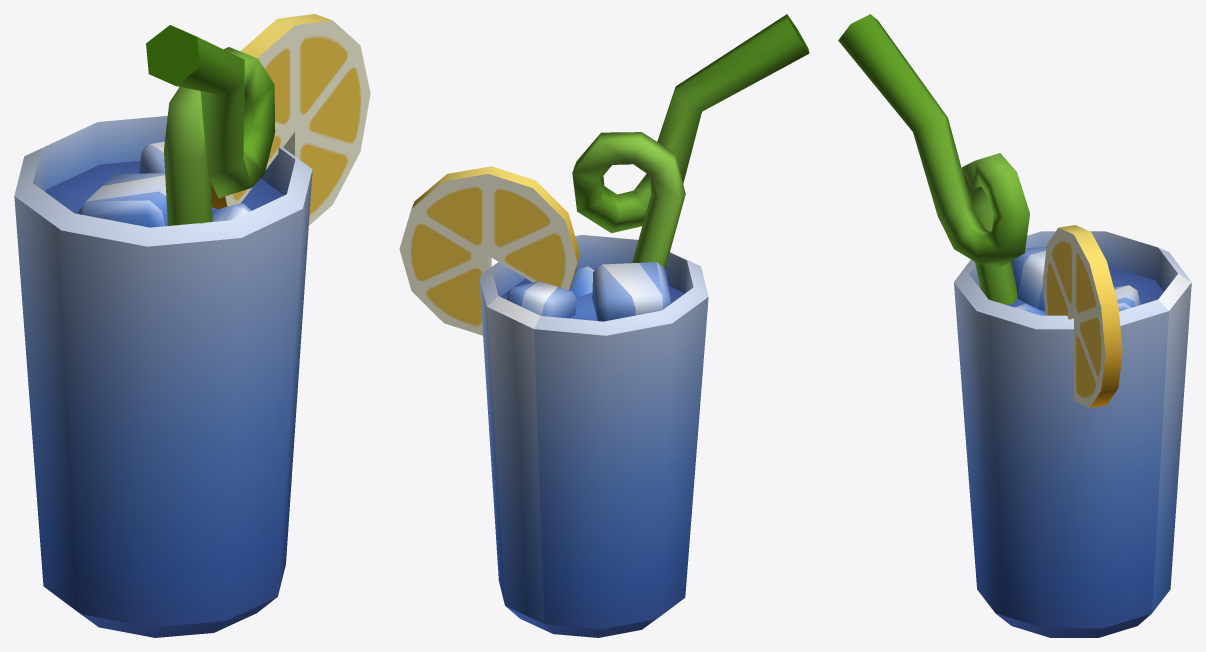
Rendered from m_Cocktail16.fbx.
3 renders of one model, left to right at view 1: azimuth 30°, elevation 25°; view 2: azimuth 150°, elevation 25°; view 3: azimuth 270°, elevation 25°, orthographic. The views are drawn at different scales.
Parts seen in each view (by area): view 1: m_Cocktail16; view 2: m_Cocktail16; view 3: m_Cocktail16.
Part boxes in pixels (x1,y1,x2,y2): m_Cocktail16: (14,14,370,637); m_Cocktail16: (399,14,809,637); m_Cocktail16: (838,14,1191,637).
Size of the model in its own units: 18.46 by 32.78 by 19.29.
